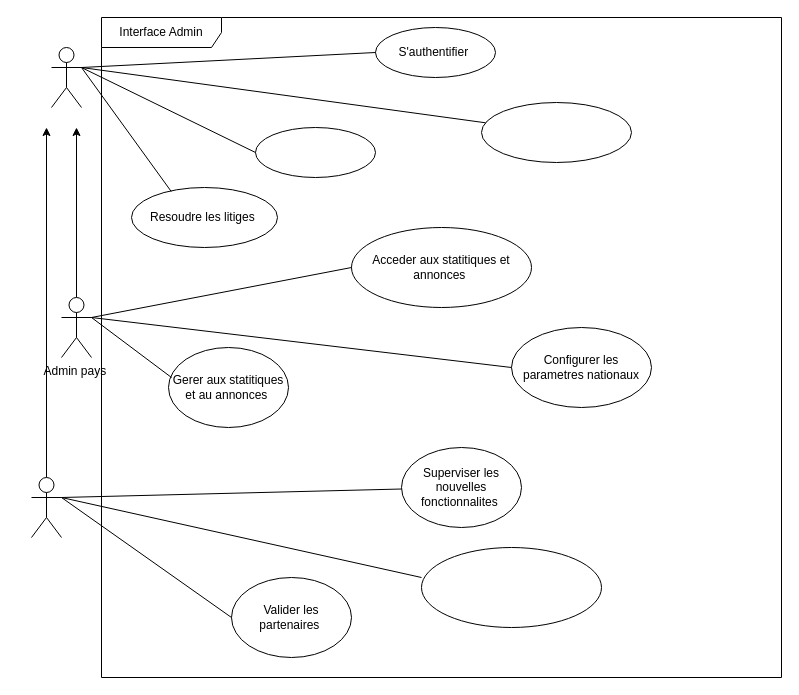
Image size: 799x695. Some labels were removed from this diagram. Each missing label, with the centre of its shape:
Admin region: pixel 66 77
Analiser les retours utilisatateur pour ameliration: pixel 511 587
Chef projet: pixel 46 507
Moderer les annonces: pixel 556 132
Valider les comptes: pixel 315 152
